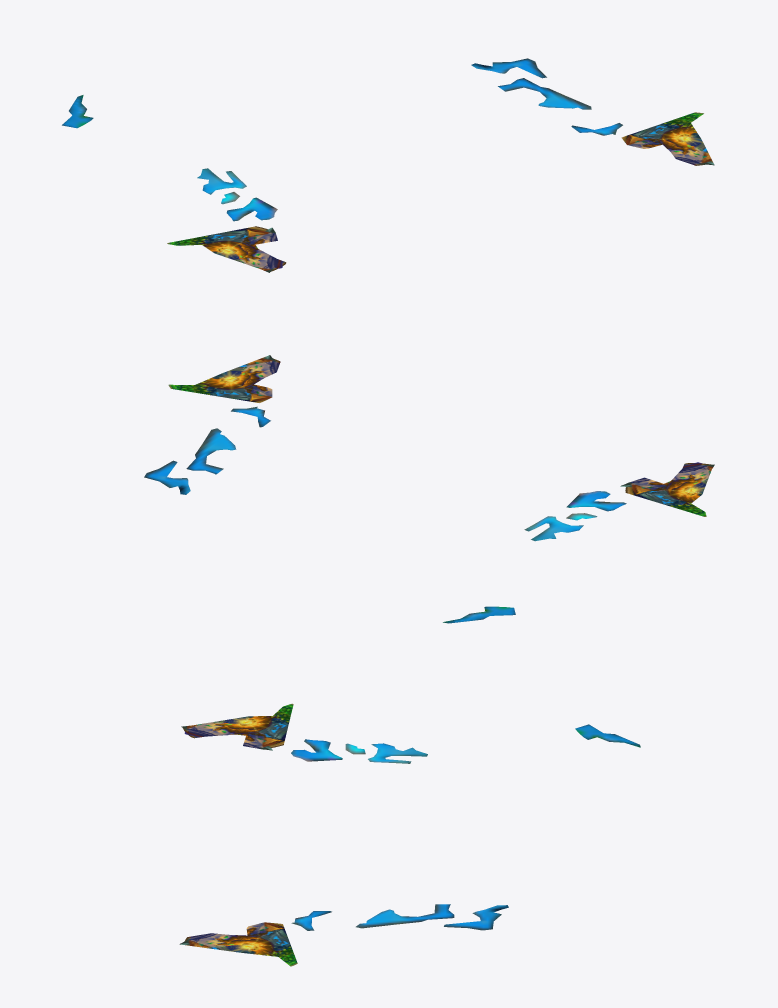
Rendered from mukuang.FBX.
3 views of the same model, one above another, from view 1: azimuth 30°, elevation 25°; view 2: azimuth 150°, elevation 25°; view 3: azimuth 270°, elevation 25° (orthographic).
Visible parts, largest first — view 1: jinshu, lansezi; view 2: jinshu, lansezi; view 3: jinshu, lansezi.
Boxes of the visible parts, x1,y1,x2,y2 form: jinshu: [167, 112, 714, 272]; lansezi: [62, 58, 622, 221]; jinshu: [168, 355, 714, 516]; lansezi: [144, 406, 626, 623]; jinshu: [179, 703, 297, 966]; lansezi: [291, 724, 640, 930].
Bounding box in the file's own units: 2.3 × 1.39e-16 × 2.29.
